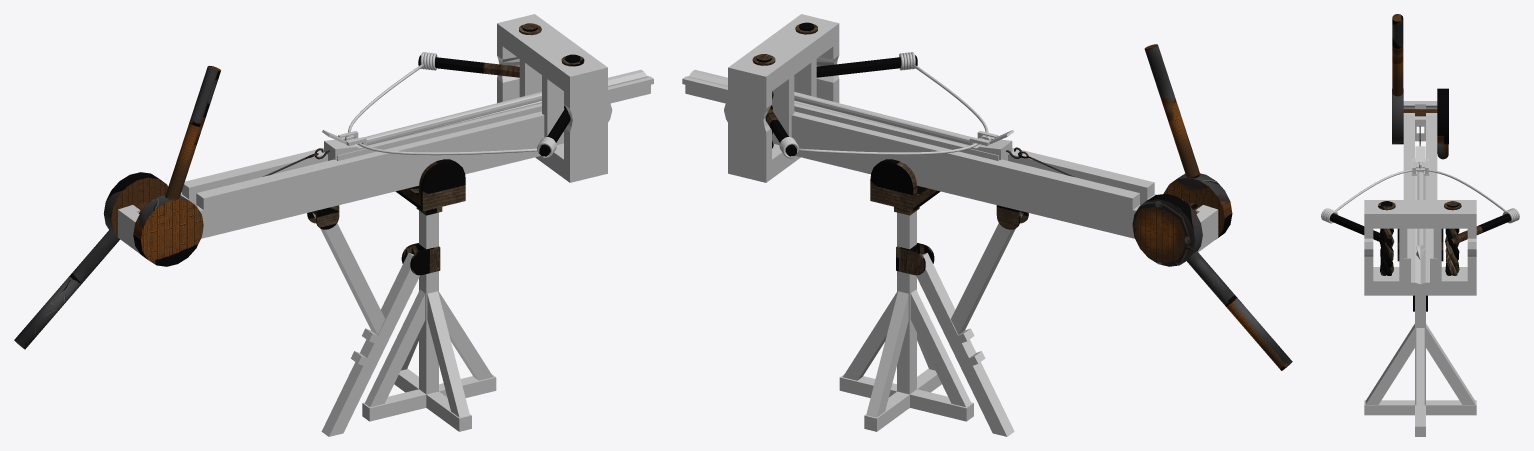
File: balista.gltf
The picture shows the model from 3 angles, left to right: view 1: azimuth 30°, elevation 25°; view 2: azimuth 150°, elevation 25°; view 3: azimuth 270°, elevation 25°; orthographic projection. The views are drawn at different scales.
Visible parts, largest first — view 1: Sehne; view 2: Sehne; view 3: Sehne.
Boxes of the visible parts, <box> form: Sehne: <box>14,14,653,436</box>; Sehne: <box>682,14,1292,436</box>; Sehne: <box>1321,14,1519,436</box>.
Size of the model in its own units: 4.32 by 2.74 by 1.57.
